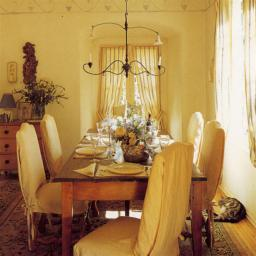Ventana: (220, 8, 250, 144)
